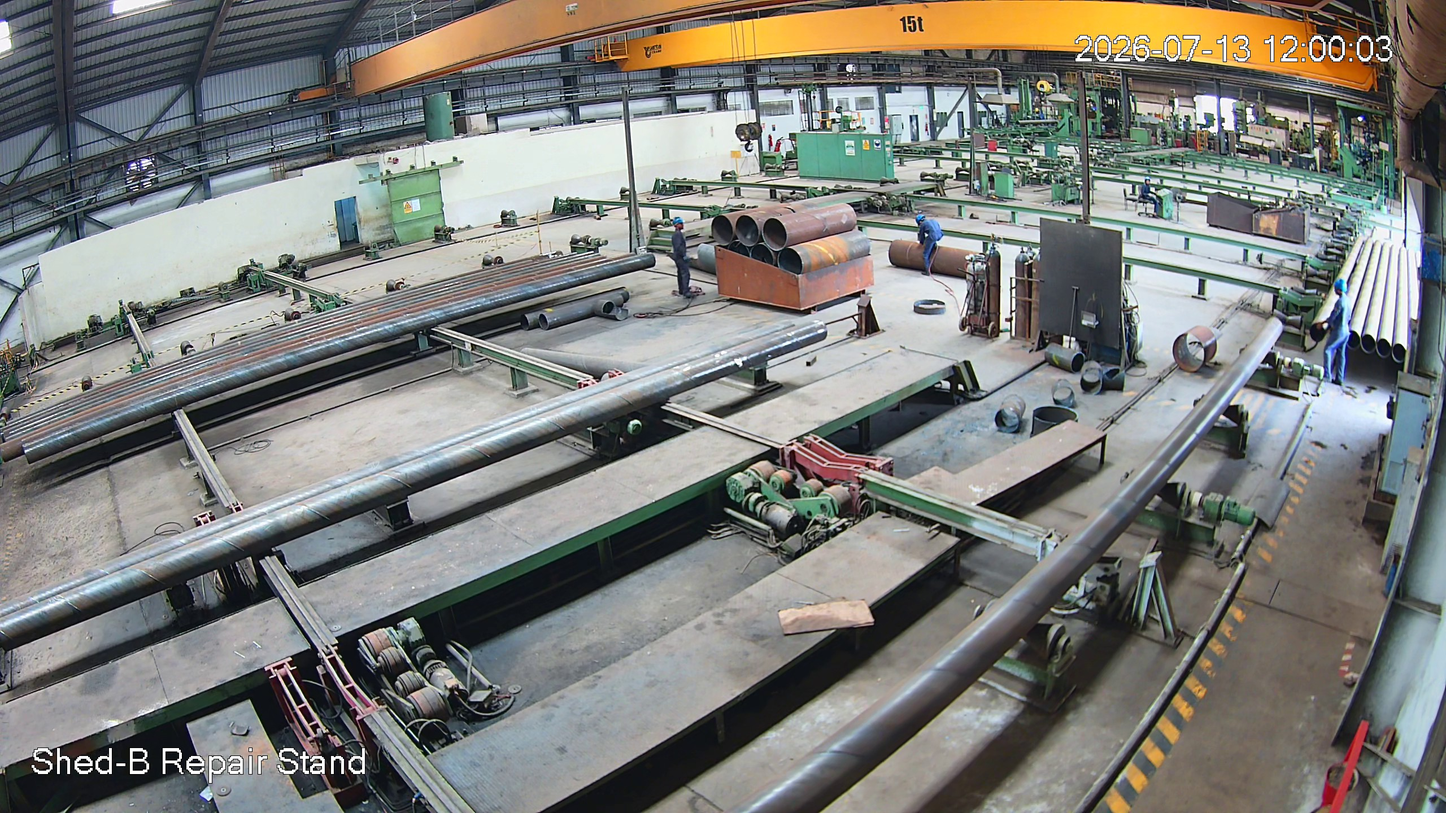Helmet: (1333, 278, 1349, 297)
Person: (1315, 281, 1350, 382)
